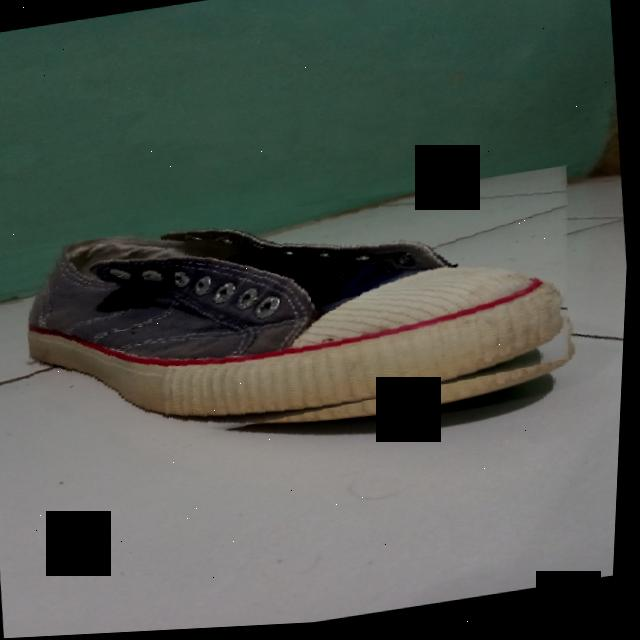shoe: (17, 170, 593, 471)
